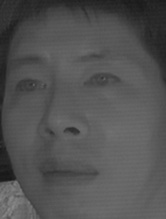eye: (83, 70, 121, 93), (13, 75, 48, 99)
mouth: (38, 154, 100, 191)
